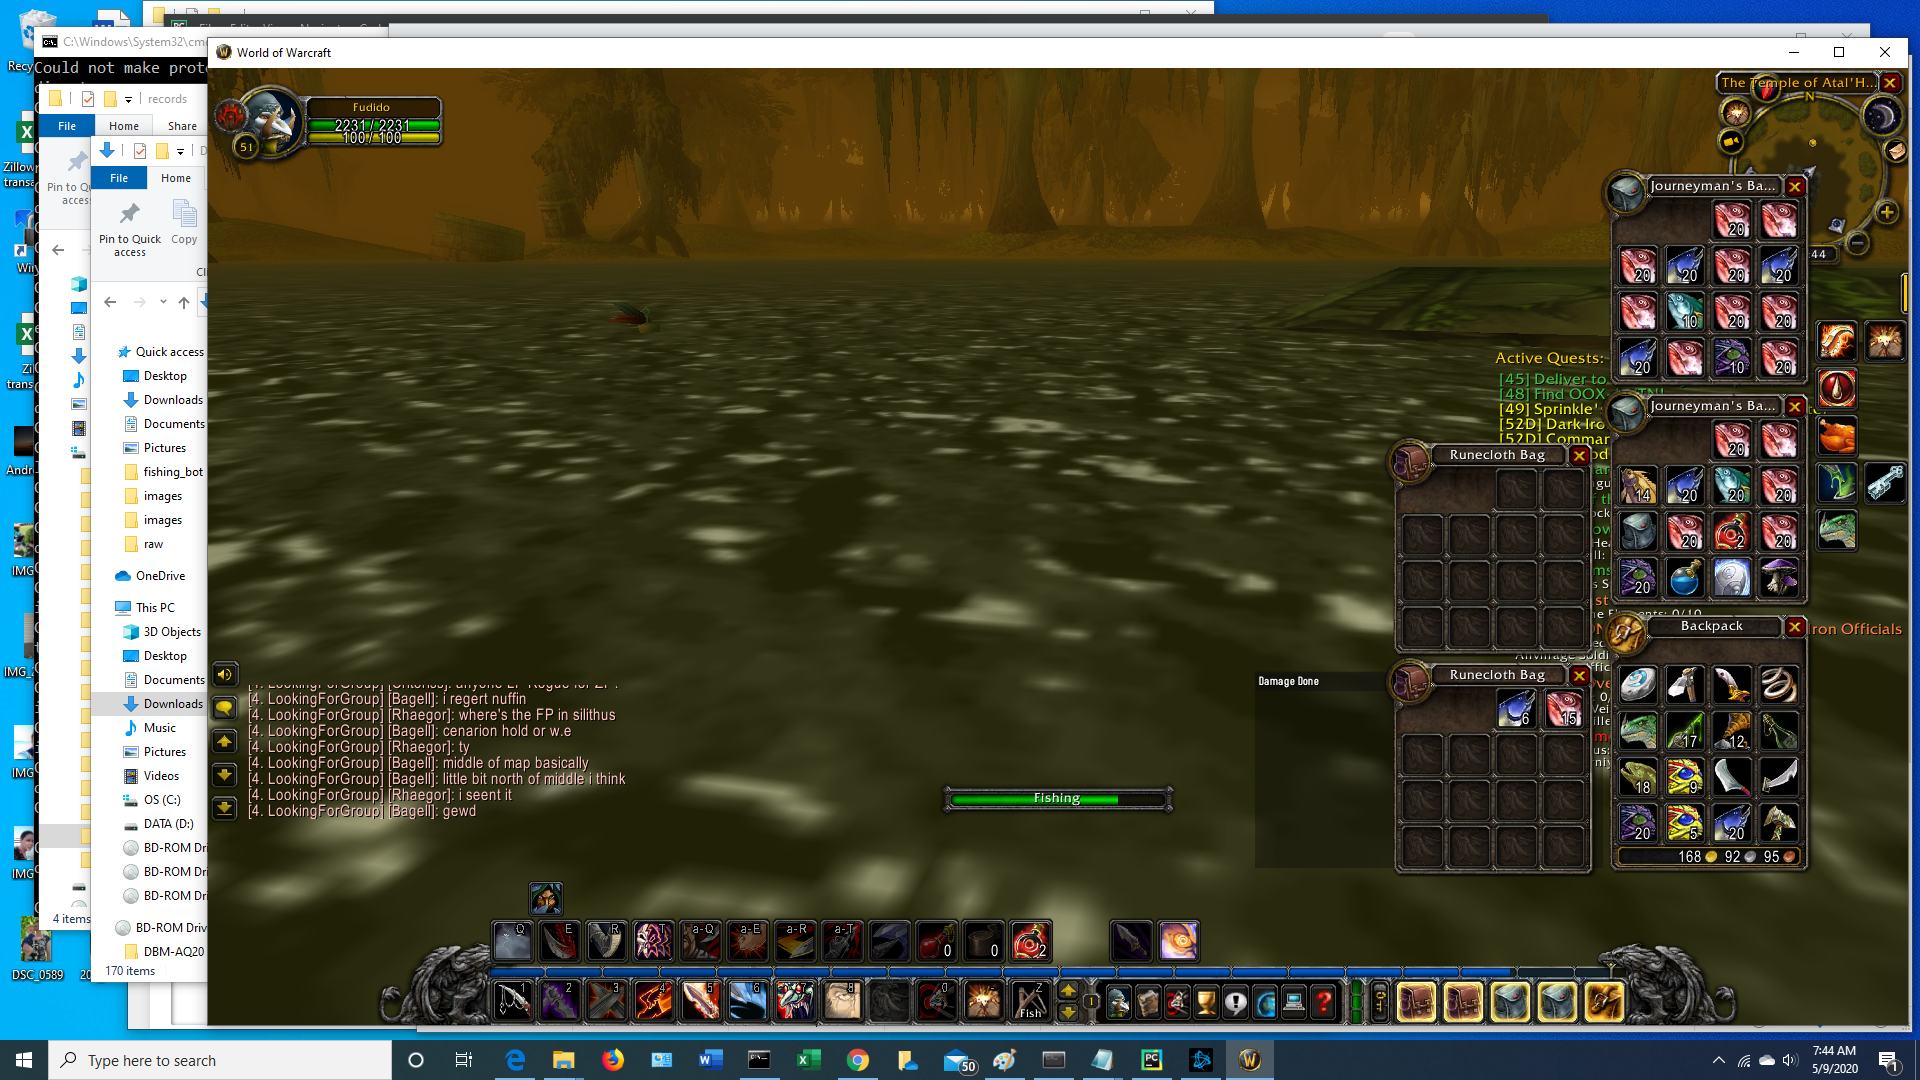bobber: (603, 293, 659, 339)
